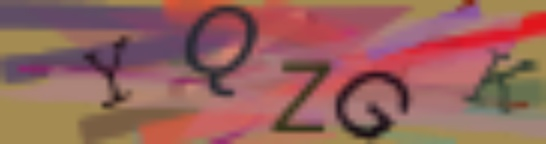G: (333, 67, 412, 142)
K: (462, 49, 536, 118)
Q: (178, 5, 264, 99)
Y: (82, 34, 137, 114)
Z: (268, 57, 334, 137)
